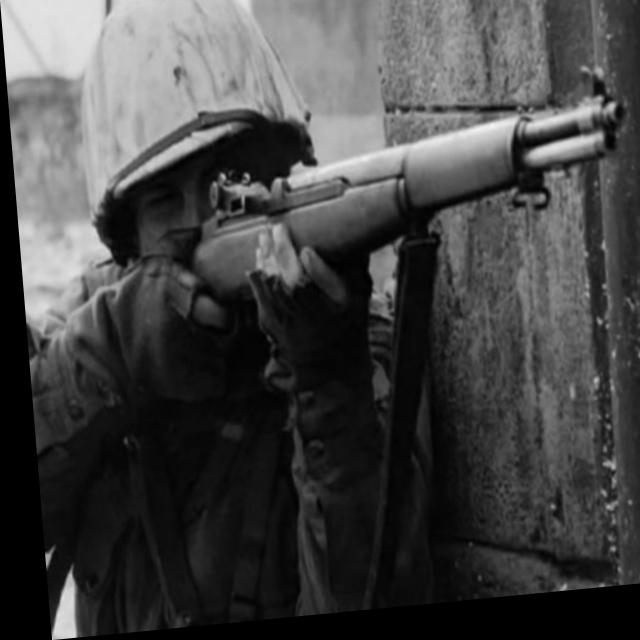other: (29, 0, 362, 564)
